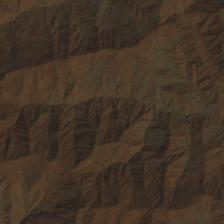landslides: (45, 8, 56, 28)
